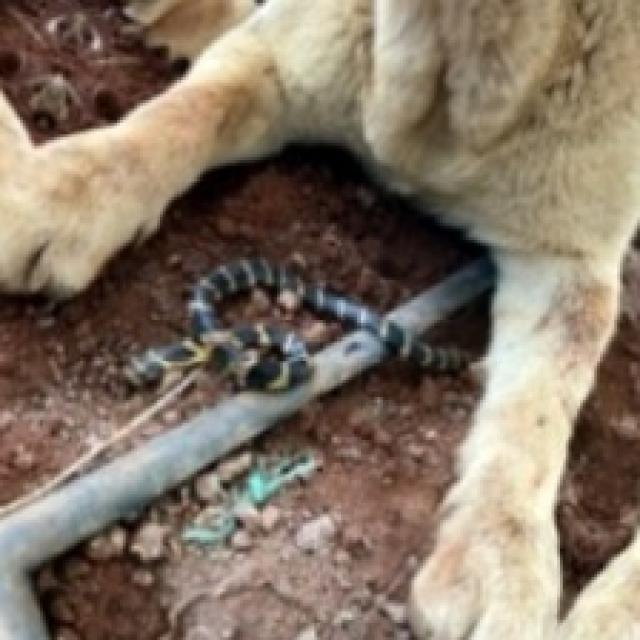king cobra: (0, 0, 637, 637), (123, 257, 489, 389)
